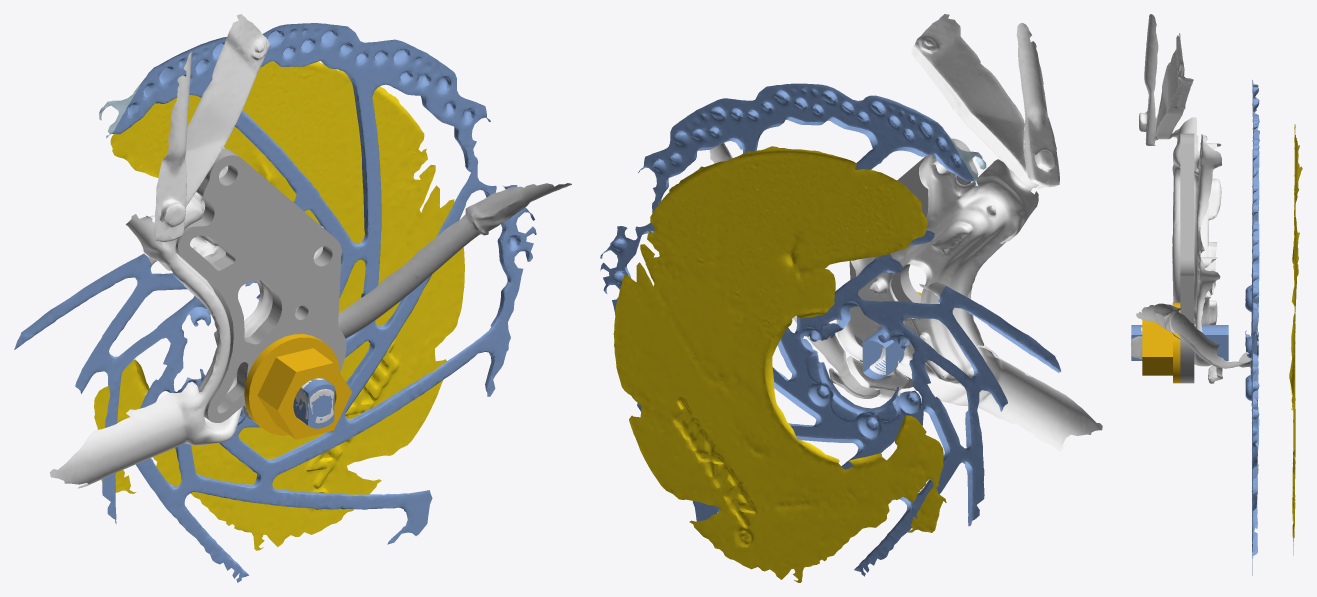
File: Linkerkant3dscan.glb
The picture shows the model from 3 angles, left to right: view 1: azimuth 30°, elevation 25°; view 2: azimuth 150°, elevation 25°; view 3: azimuth 270°, elevation 25°; orthographic projection. The views are drawn at different scales.
Parts seen in each view (by area): view 1: Surface 1, Surface 6, Surface 2, Part 2, Part 3, Surface 5, Surface 10; view 2: Surface 6, Surface 1, Surface 2, Part 2, Surface 5, Surface 10; view 3: Surface 2, Surface 1, Part 2, Surface 5, Part 3, Surface 6, Surface 10.
Part boxes in pixels (bbox=[...]): Surface 1: bbox=[14, 23, 536, 582]; Surface 6: bbox=[94, 61, 464, 550]; Surface 2: bbox=[49, 14, 333, 488]; Part 2: bbox=[175, 148, 346, 422]; Part 3: bbox=[244, 334, 352, 439]; Surface 5: bbox=[338, 183, 571, 338]; Surface 10: bbox=[293, 378, 334, 428]; Surface 6: bbox=[613, 146, 946, 582]; Surface 1: bbox=[600, 83, 1061, 576]; Surface 2: bbox=[836, 14, 1102, 451]; Part 2: bbox=[849, 138, 978, 388]; Surface 5: bbox=[709, 143, 880, 398]; Surface 10: bbox=[862, 327, 904, 379]; Surface 2: bbox=[1131, 14, 1222, 383]; Surface 1: bbox=[1245, 80, 1259, 575]; Part 2: bbox=[1180, 133, 1194, 383]; Surface 5: bbox=[1136, 303, 1251, 368]; Part 3: bbox=[1142, 302, 1180, 383]; Surface 6: bbox=[1289, 124, 1302, 555]; Surface 10: bbox=[1131, 325, 1228, 360].
Bounding box in the file's own units: 0.196 × 0.218 × 0.0723.
